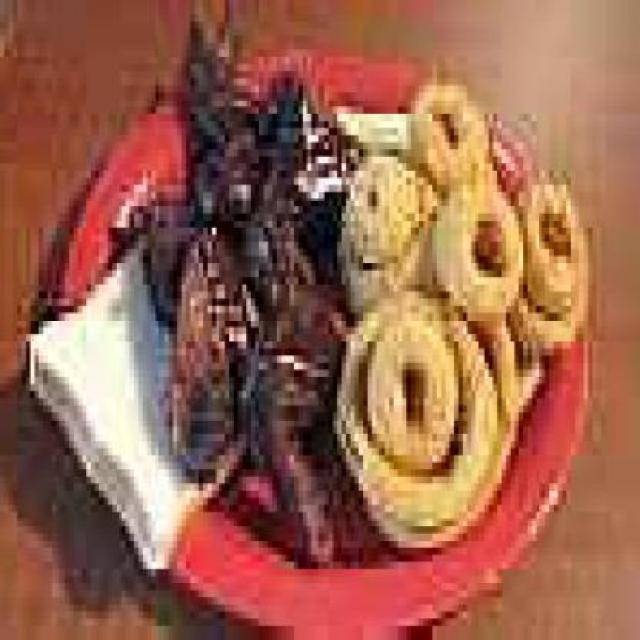chicken wings: (99, 8, 355, 540)
onion rings: (320, 43, 588, 548)
